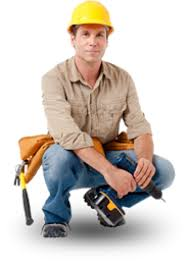Person_wearing_helmet: (61, 0, 117, 43)
